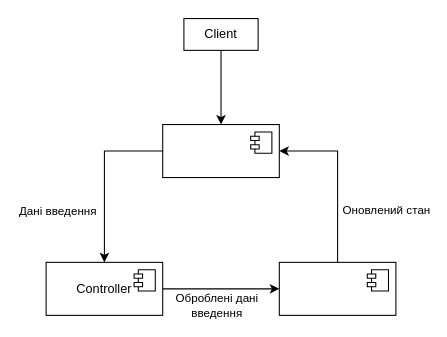
Image size: 447x337. Some labels were removed from this diagram. Here are the shapes that lost their labels. From the top down, the centre of each, then its label:
the point at 220,150: View
the point at 337,288: Model
